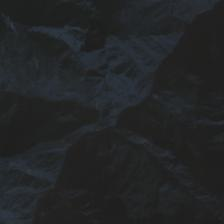landslides: (53, 188, 75, 217), (10, 22, 16, 40)
